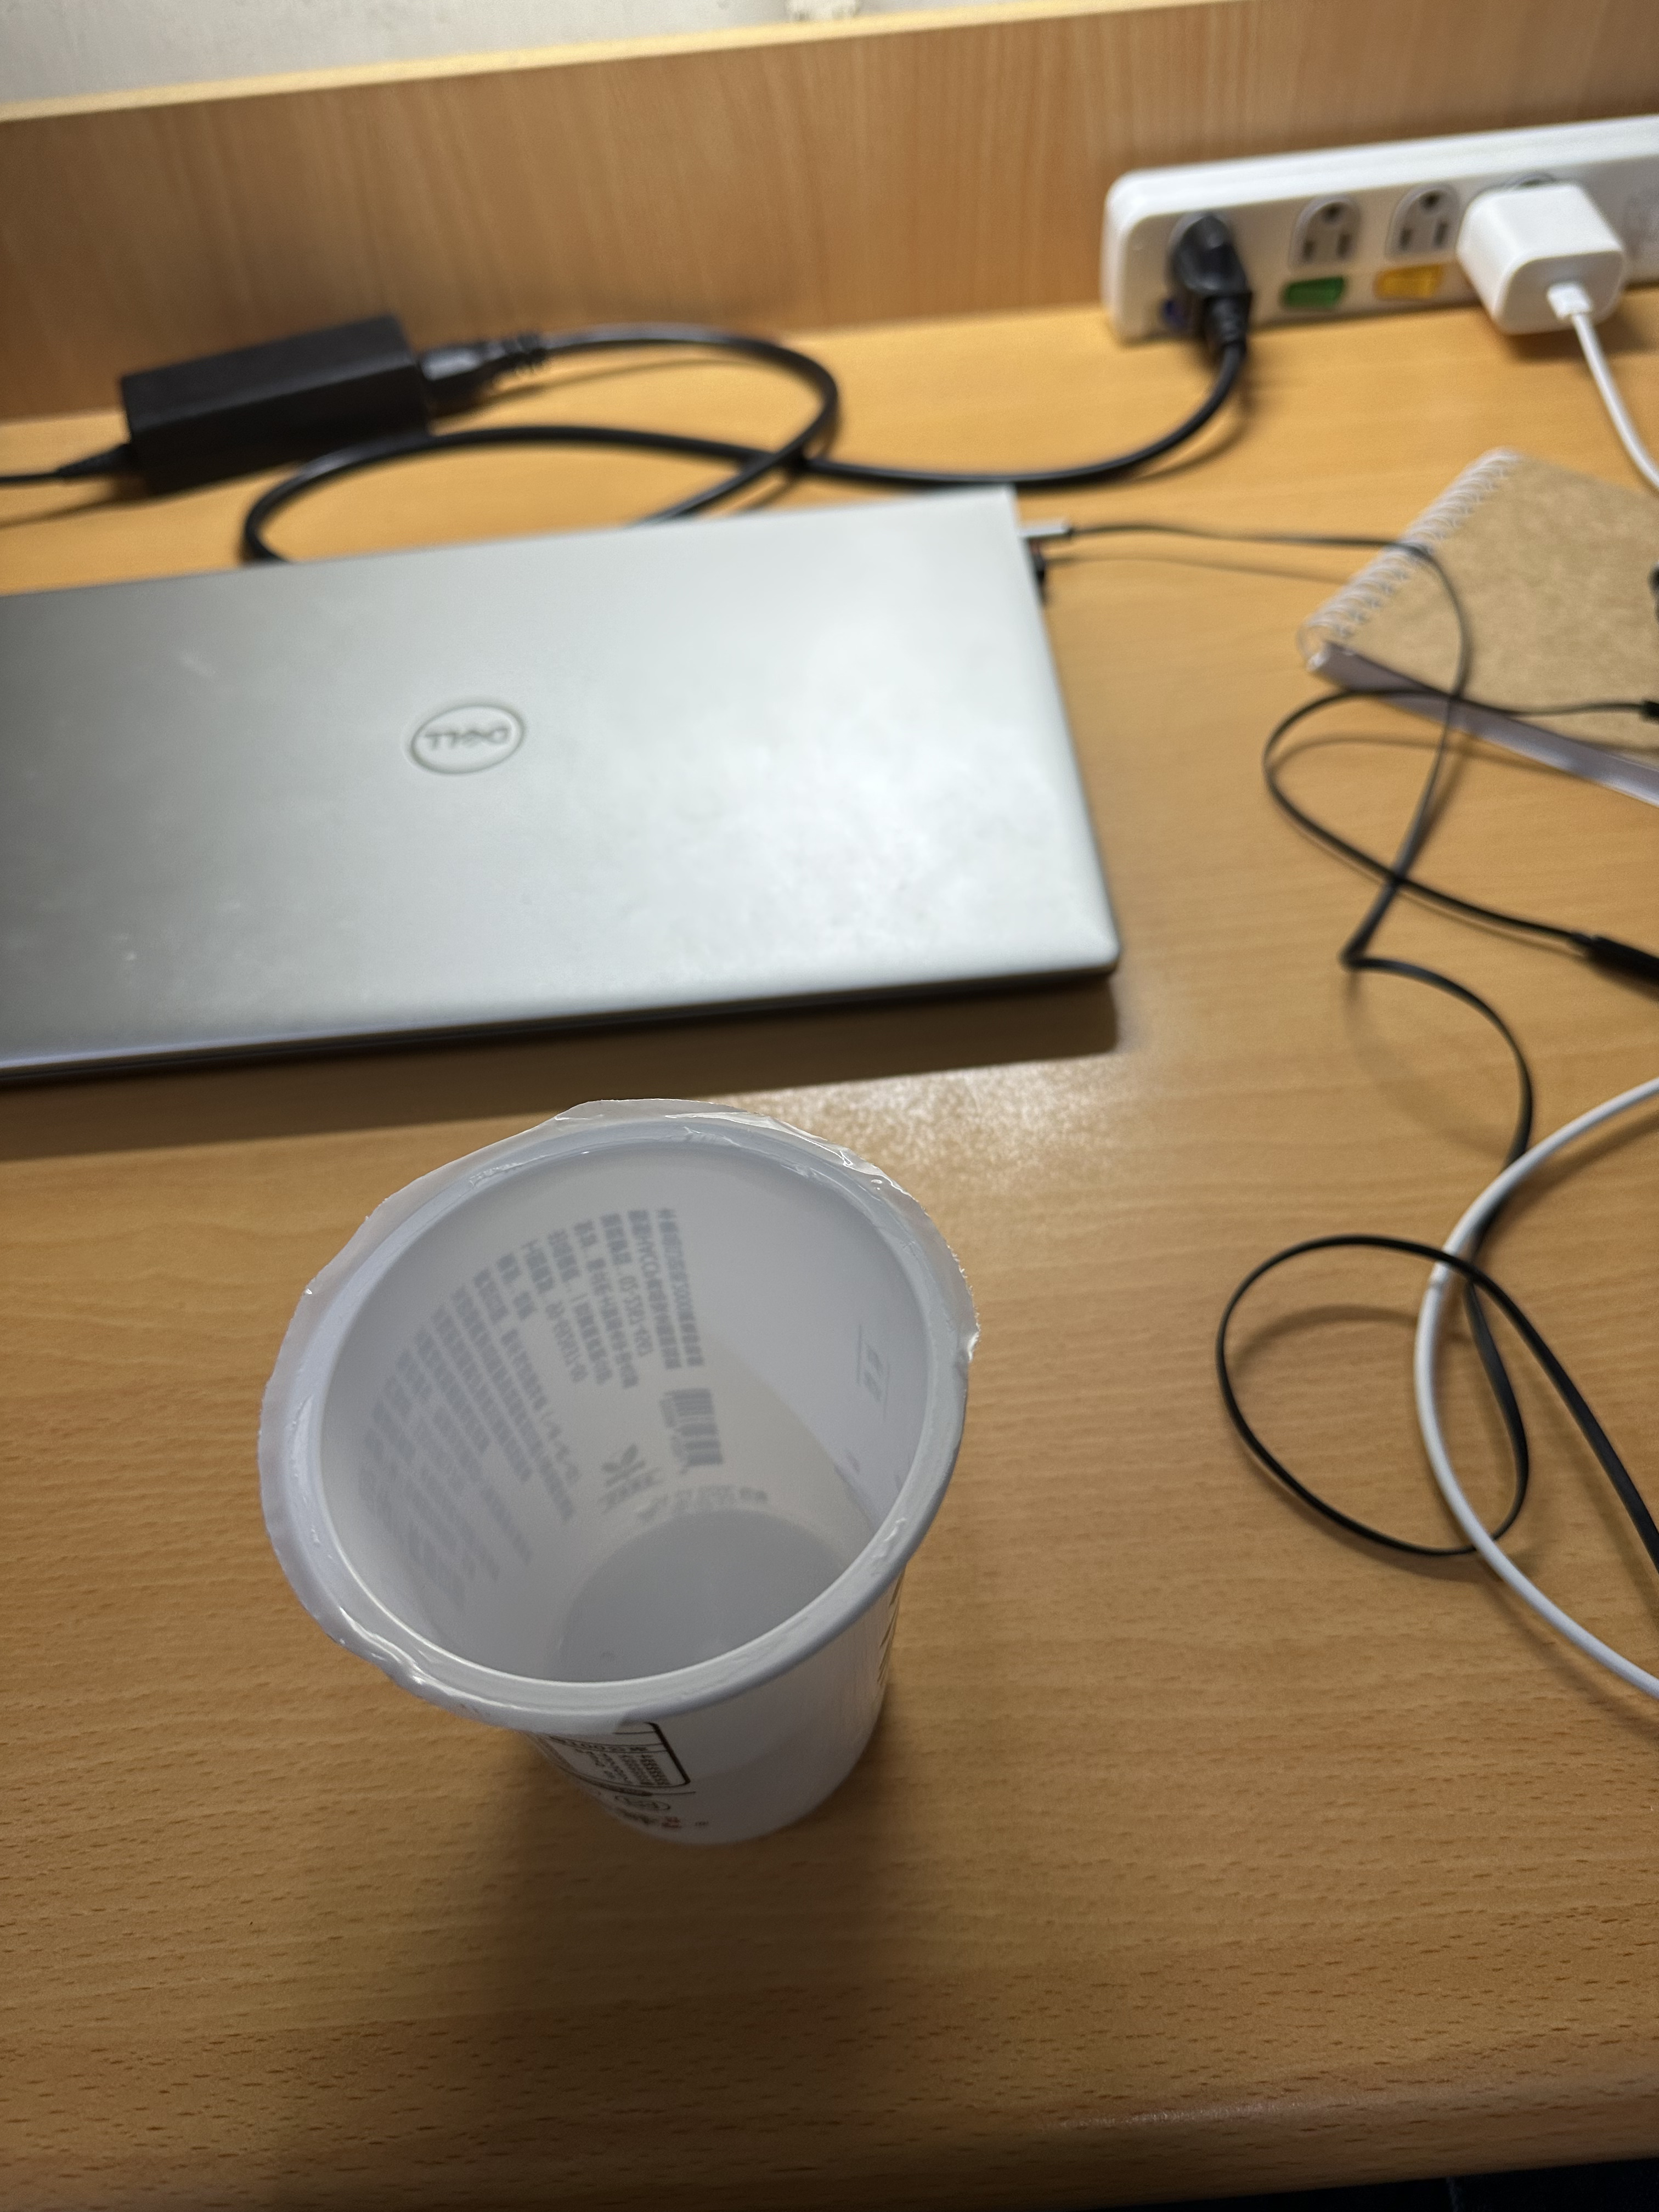cup: (261, 1097, 981, 1850)
